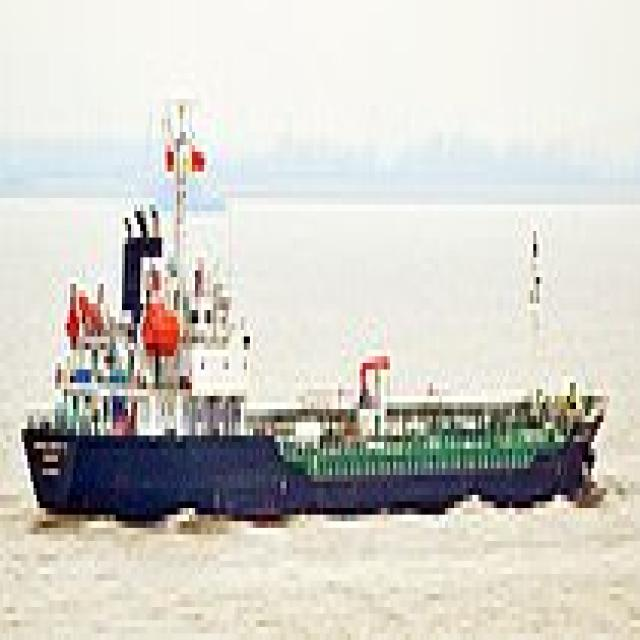Tanker: (15, 86, 613, 514)
